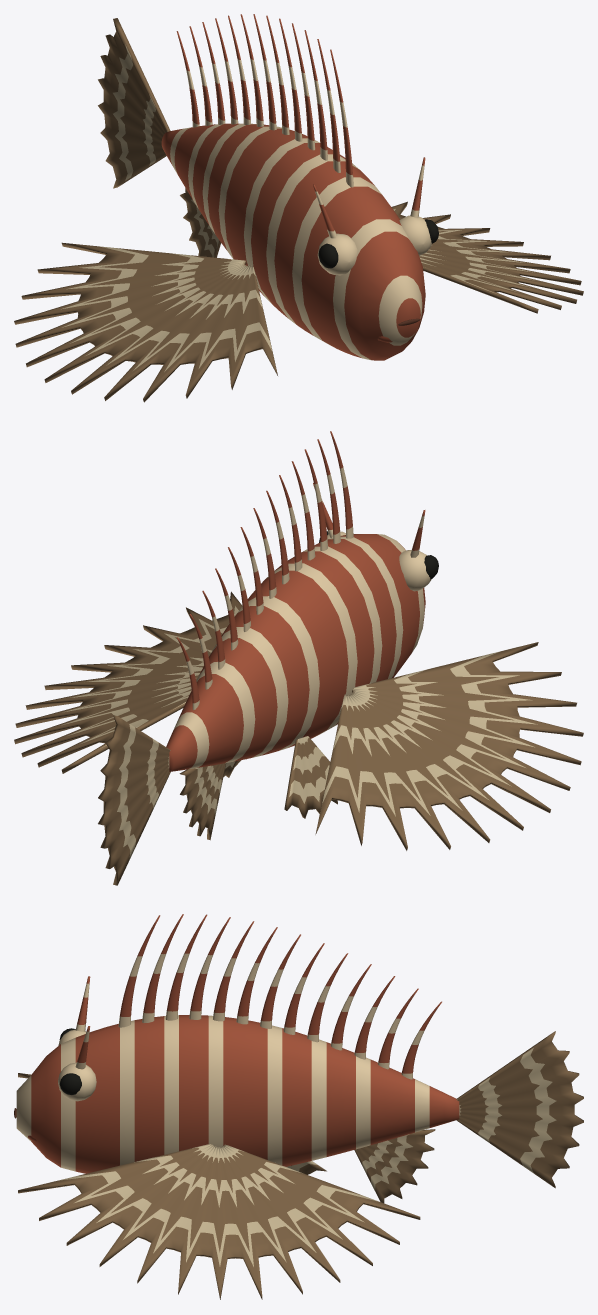
3 renders of one model, top to bottom at view 1: azimuth 30°, elevation 25°; view 2: azimuth 150°, elevation 25°; view 3: azimuth 270°, elevation 25°, orthographic. The views are drawn at different scales.
Parts seen in each view (by area): view 1: Striped_deep_body, Left_pectoral_fan, Right_pectoral_fan, Caudal_tail_fan, Anal_fin, Left_eye_socket, Right_eye_socket, Dorsal_spine_00, Dorsal_spine_01, Dorsal_spine_02, Dorsal_spine_03, Dorsal_spine_04 (+6 smaller); view 2: Striped_deep_body, Left_pectoral_fan, Right_pectoral_fan, Caudal_tail_fan, Left_pelvic_fin, Anal_fin, Left_eye_socket, Dorsal_spine_00, Dorsal_spine_01; view 3: Striped_deep_body, Right_pectoral_fan, Caudal_tail_fan, Anal_fin, Dorsal_spine_00, Dorsal_spine_01, Dorsal_spine_02, Right_eye_socket, Dorsal_spine_03, Dorsal_spine_04, Dorsal_spine_05, Dorsal_spine_06 (+6 smaller).
Boxes of the visible parts, x1=… form: Striped_deep_body: x1=161, y1=123, x2=425, y2=360; Left_pectoral_fan: x1=14, y1=242, x2=277, y2=402; Right_pectoral_fan: x1=391, y1=201, x2=583, y2=313; Caudal_tail_fan: x1=98, y1=18, x2=170, y2=188; Anal_fin: x1=180, y1=188, x2=220, y2=257; Left_eye_socket: x1=317, y1=233, x2=357, y2=275; Right_eye_socket: x1=399, y1=215, x2=431, y2=255; Dorsal_spine_00: x1=330, y1=49, x2=353, y2=187; Dorsal_spine_01: x1=317, y1=39, x2=340, y2=172; Dorsal_spine_02: x1=304, y1=30, x2=327, y2=160; Dorsal_spine_03: x1=292, y1=23, x2=315, y2=150; Dorsal_spine_04: x1=279, y1=18, x2=302, y2=141; Striped_deep_body: x1=166, y1=534, x2=425, y2=771; Left_pectoral_fan: x1=315, y1=642, x2=583, y2=850; Right_pectoral_fan: x1=14, y1=591, x2=242, y2=773; Caudal_tail_fan: x1=98, y1=715, x2=170, y2=885; Left_pelvic_fin: x1=284, y1=736, x2=337, y2=818; Anal_fin: x1=179, y1=763, x2=226, y2=840; Left_eye_socket: x1=399, y1=550, x2=431, y2=591; Dorsal_spine_00: x1=330, y1=431, x2=353, y2=538; Dorsal_spine_01: x1=317, y1=439, x2=340, y2=543; Striped_deep_body: x1=16, y1=1015, x2=459, y2=1173; Right_pectoral_fan: x1=18, y1=1144, x2=420, y2=1299; Caudal_tail_fan: x1=456, y1=1031, x2=583, y2=1188; Anal_fin: x1=354, y1=1129, x2=435, y2=1203; Dorsal_spine_00: x1=118, y1=915, x2=160, y2=1027; Dorsal_spine_01: x1=142, y1=914, x2=183, y2=1022; Dorsal_spine_02: x1=165, y1=914, x2=207, y2=1020; Right_eye_socket: x1=58, y1=1062, x2=96, y2=1101; Dorsal_spine_03: x1=189, y1=917, x2=230, y2=1019; Dorsal_spine_04: x1=213, y1=921, x2=254, y2=1021; Dorsal_spine_05: x1=236, y1=927, x2=277, y2=1024; Dorsal_spine_06: x1=260, y1=934, x2=300, y2=1028.
Size of the model in its own units: 0.2746 by 0.1688 by 0.2911.
